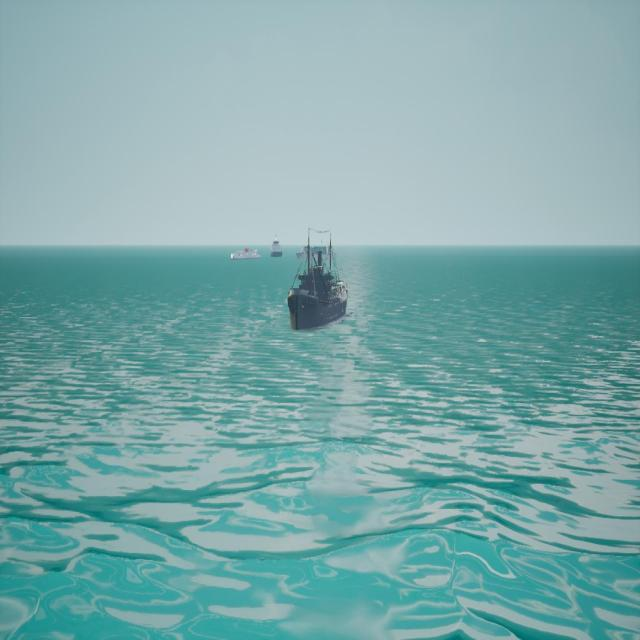fishing ship: (289, 230, 349, 333)
